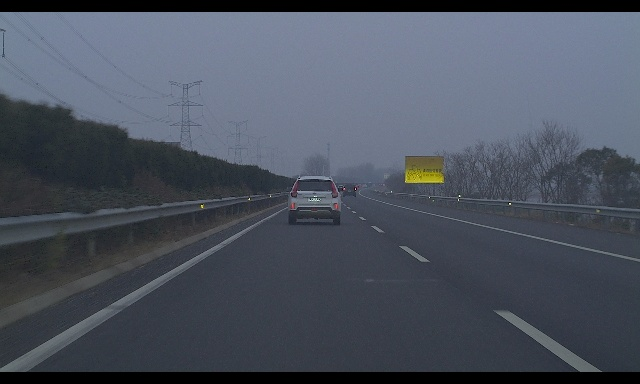car: (286, 176, 343, 225), (343, 184, 357, 197)
